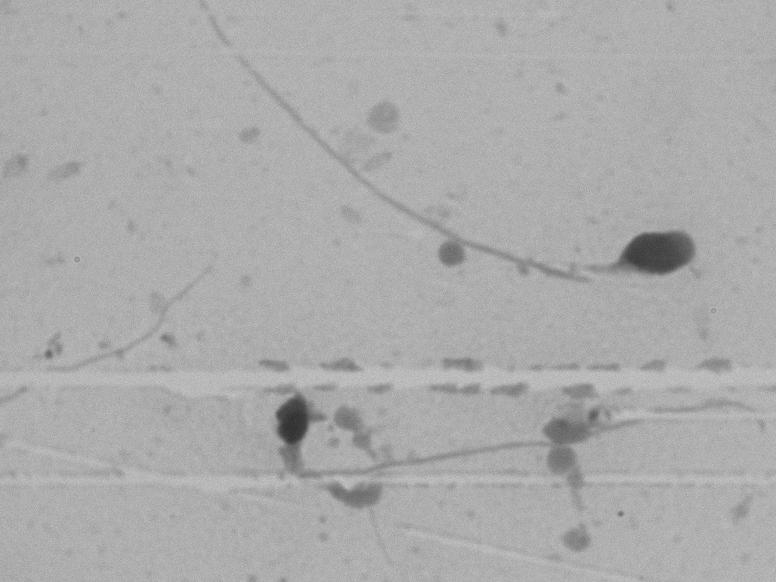Abnormal: (248, 21, 705, 328)
